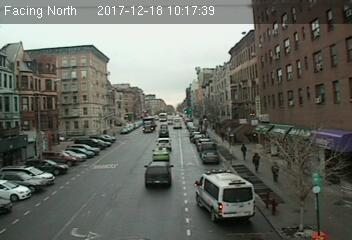car: (143, 161, 174, 187), (202, 149, 218, 164), (155, 138, 173, 149), (153, 148, 168, 158)
police: (192, 169, 258, 226)
